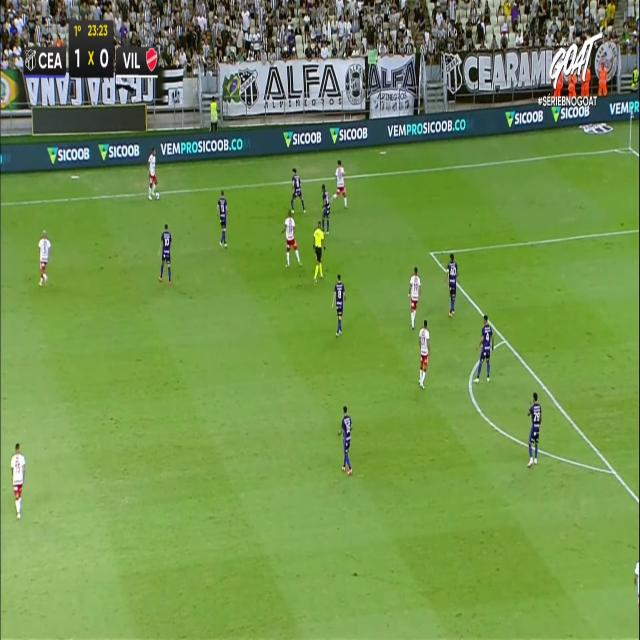ball: (155, 190, 161, 202)
player: (474, 313, 493, 383), (281, 209, 302, 267), (10, 441, 25, 518), (527, 392, 542, 466), (337, 405, 352, 474), (158, 222, 172, 283), (418, 318, 430, 388), (332, 273, 345, 336), (332, 159, 348, 209), (289, 166, 306, 213), (446, 253, 458, 317), (409, 266, 421, 329), (38, 229, 51, 287), (216, 189, 228, 247), (147, 147, 159, 200), (320, 184, 330, 236)
referee: (312, 220, 325, 281)
